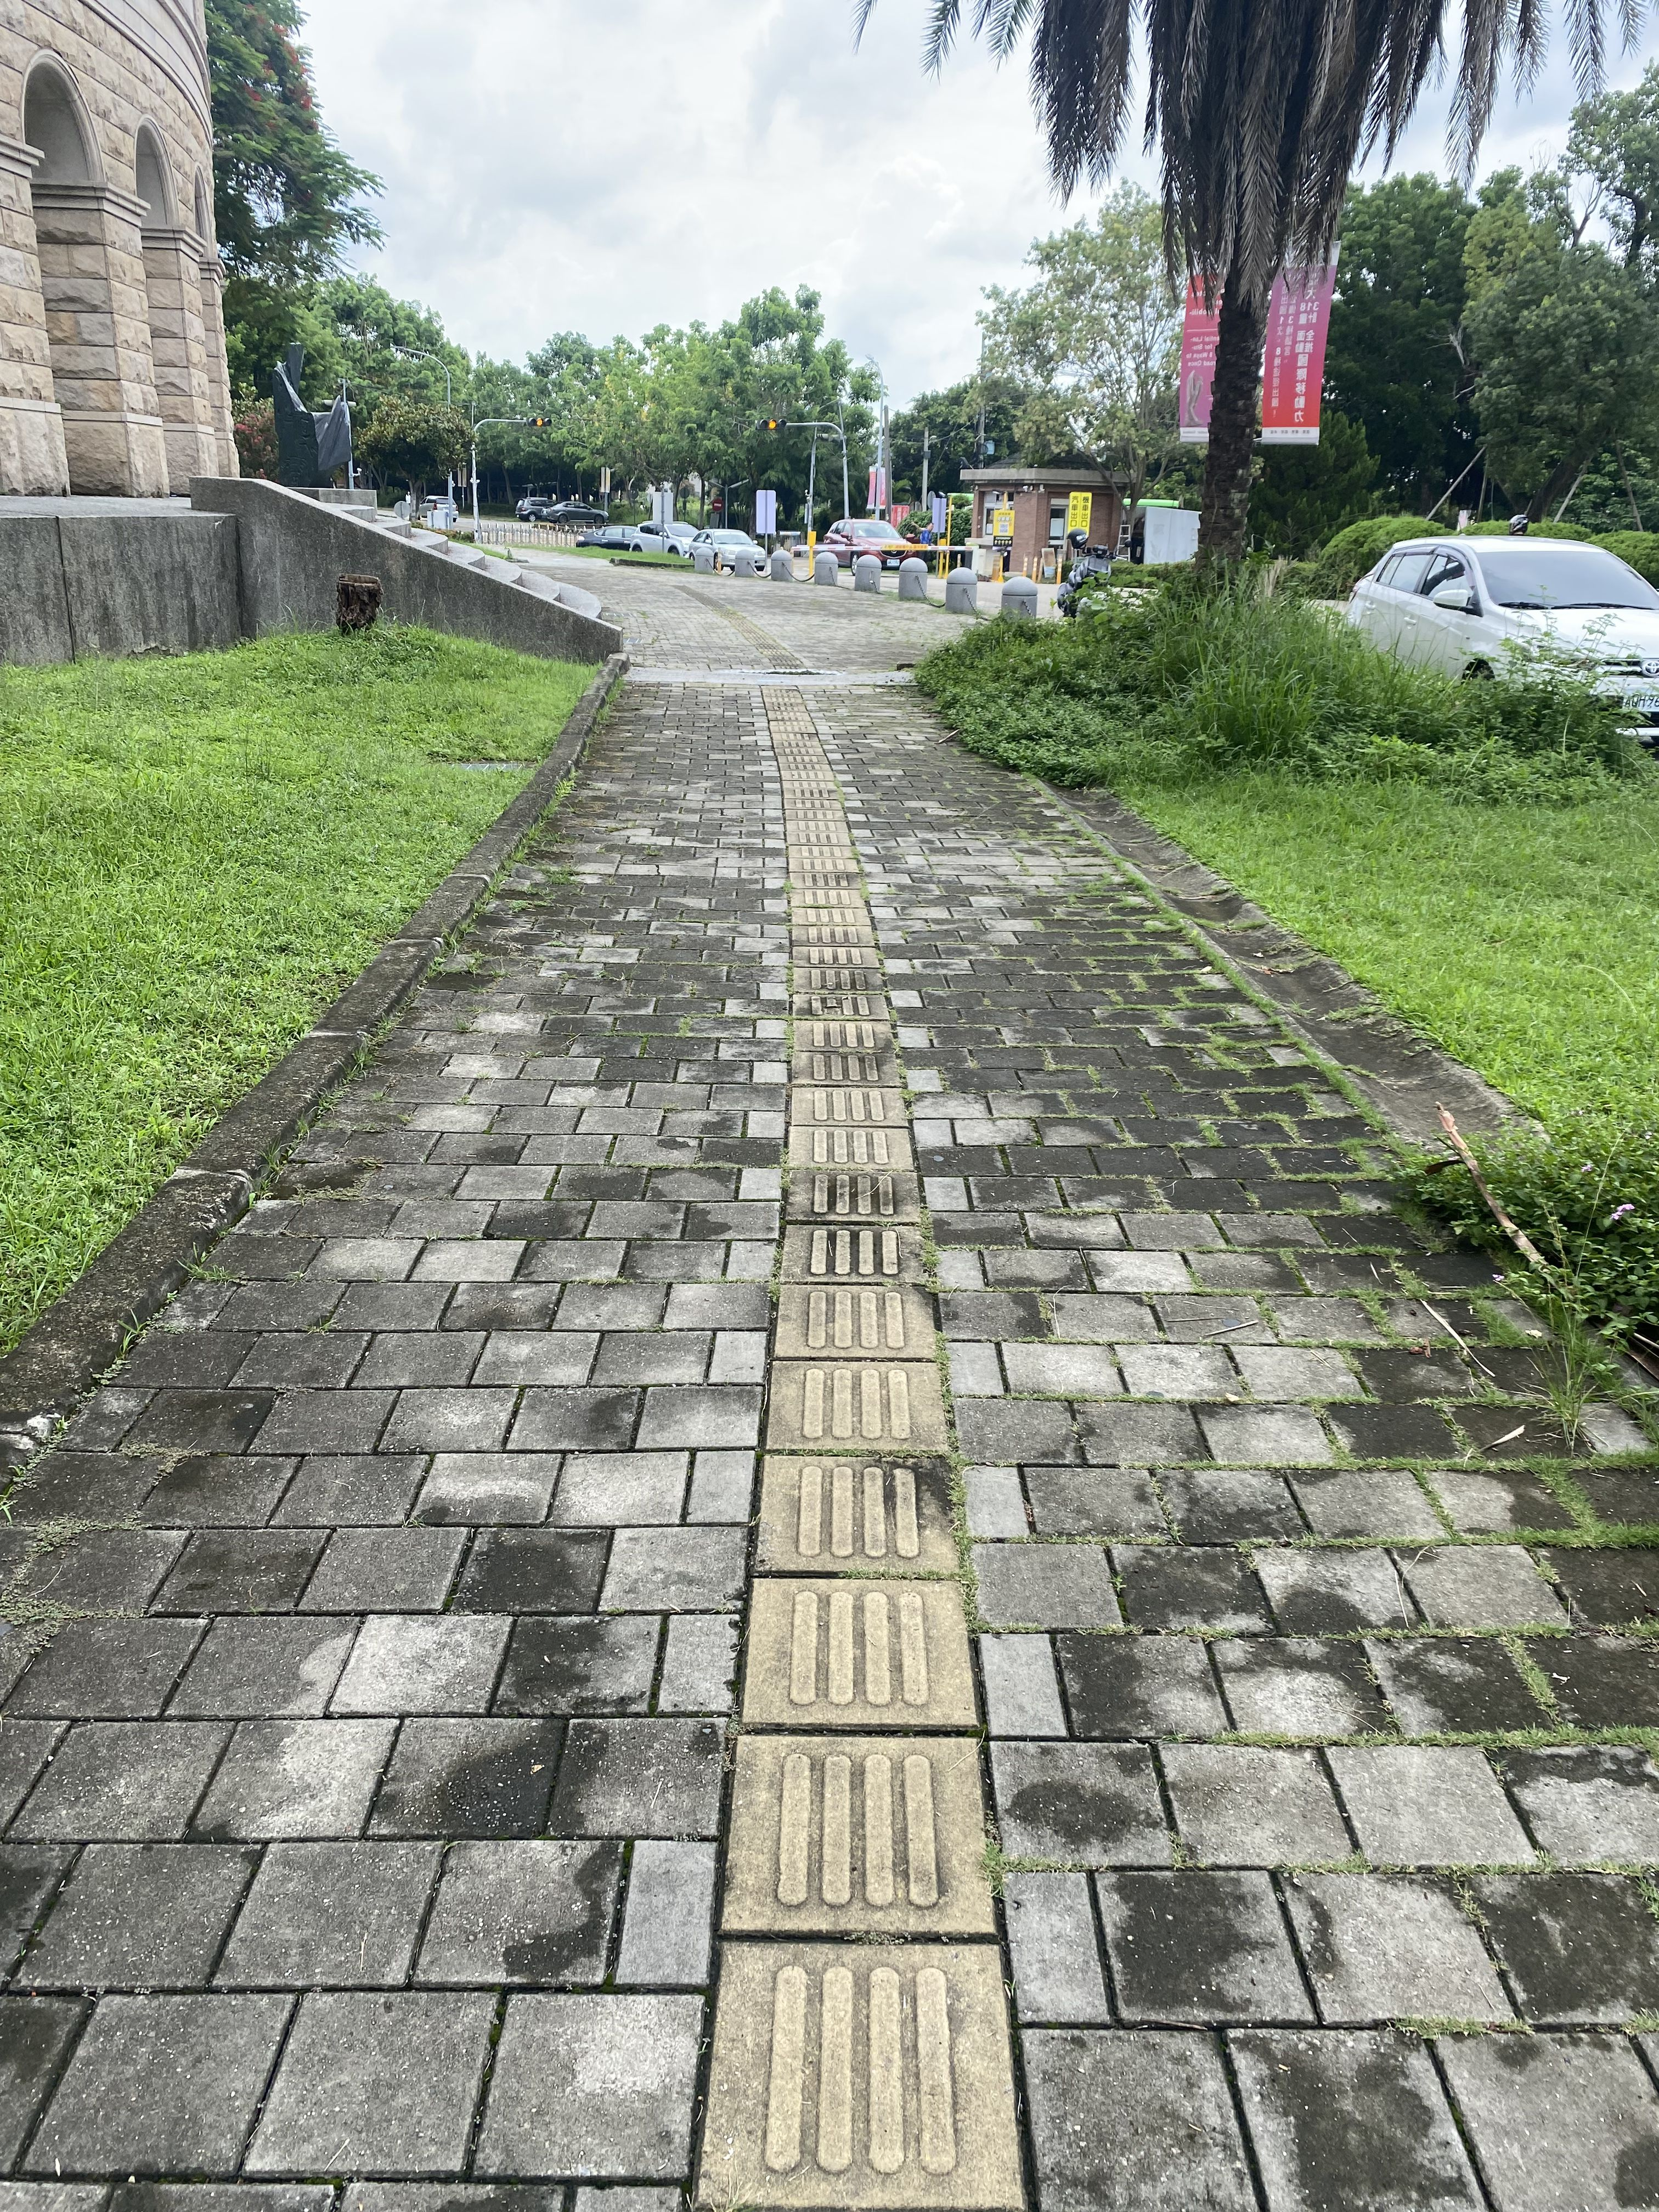0: (7, 805, 1659, 2212)
sidewalk: (530, 535, 1021, 895)
